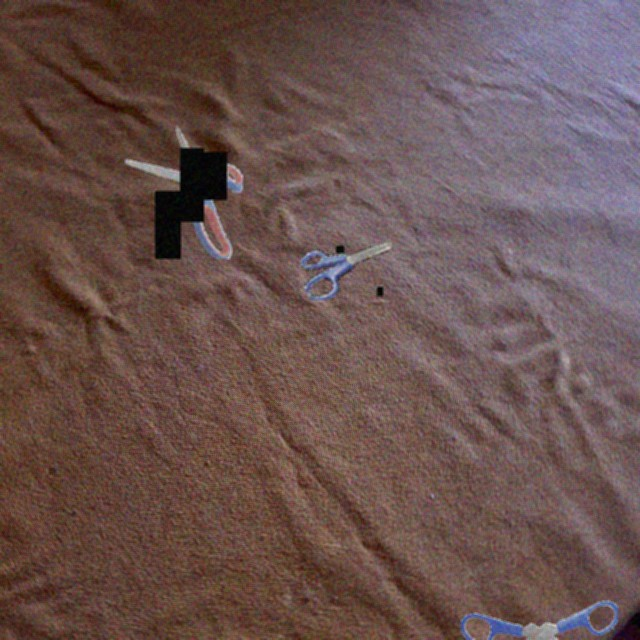scissors: (125, 126, 243, 259), (461, 601, 618, 640), (300, 241, 391, 300)
